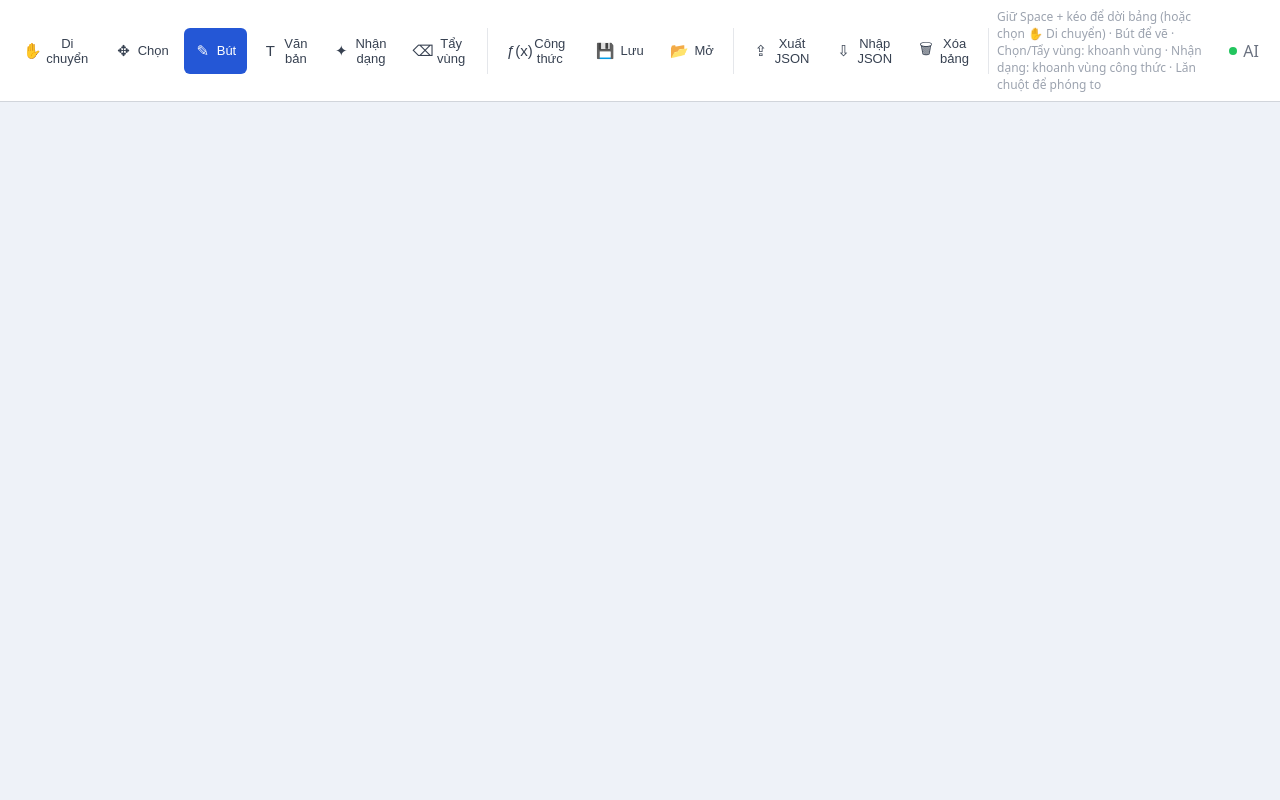
Toolbar - trạng thái AI › bấm vào trạng thái: popover hiện provider đang dùng
The width and height of the screenshot is (1280, 800).
Click the button with aria-label "Trạng thái máy chủ AI". click: {"x": 1244, "y": 50}
box: 1220,30 -> 1268,70
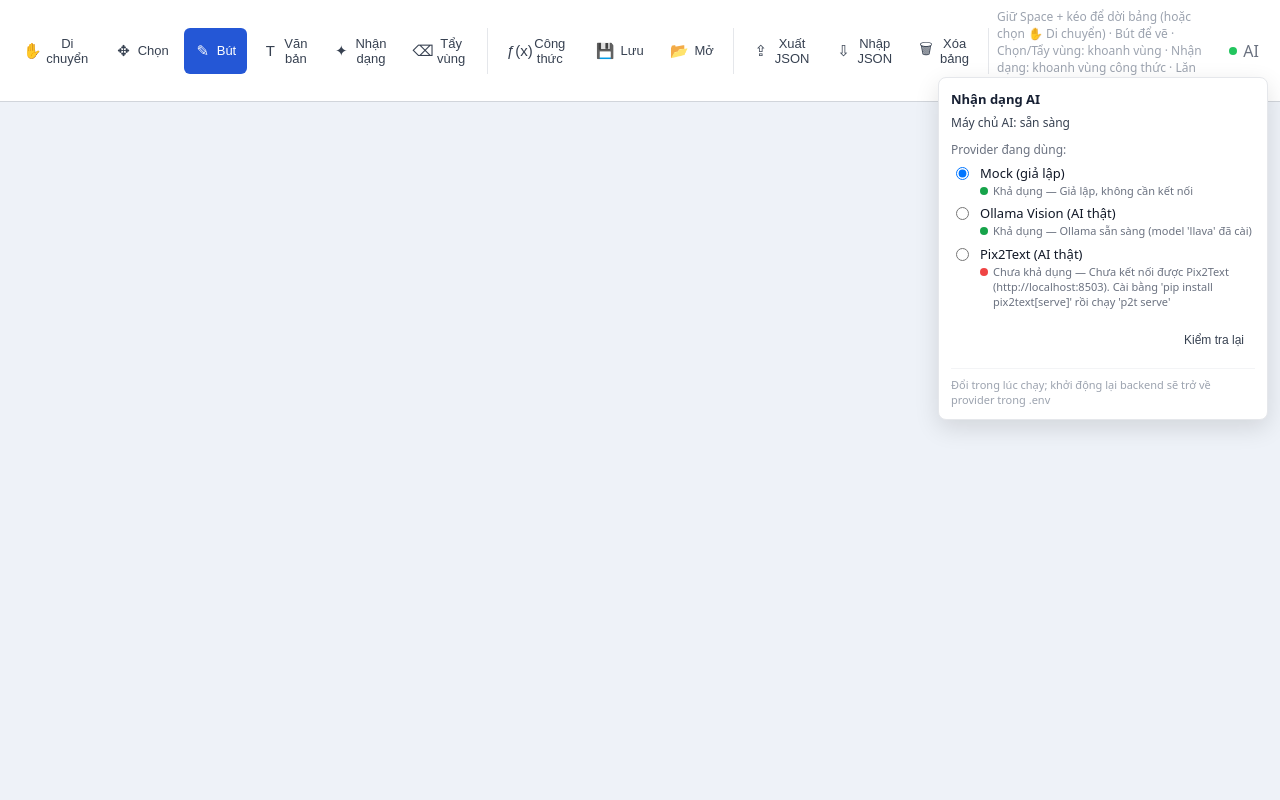
Expected: the text "Provider đang dùng:" is shown, 951,140 -> 1066,158
Expected: the radio button labelled "Mock (giả lập) Khả dụng — Giả lập, không cần kết nối" is checked, 956,166 -> 969,180
